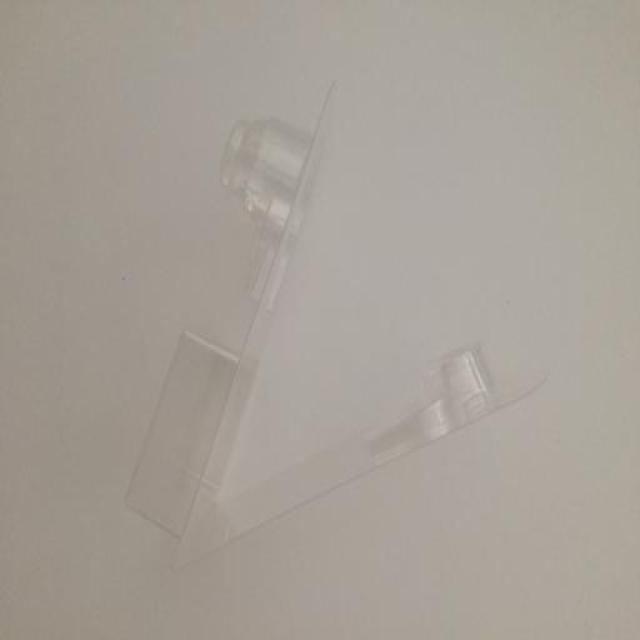Plastic: (124, 80, 548, 567)
